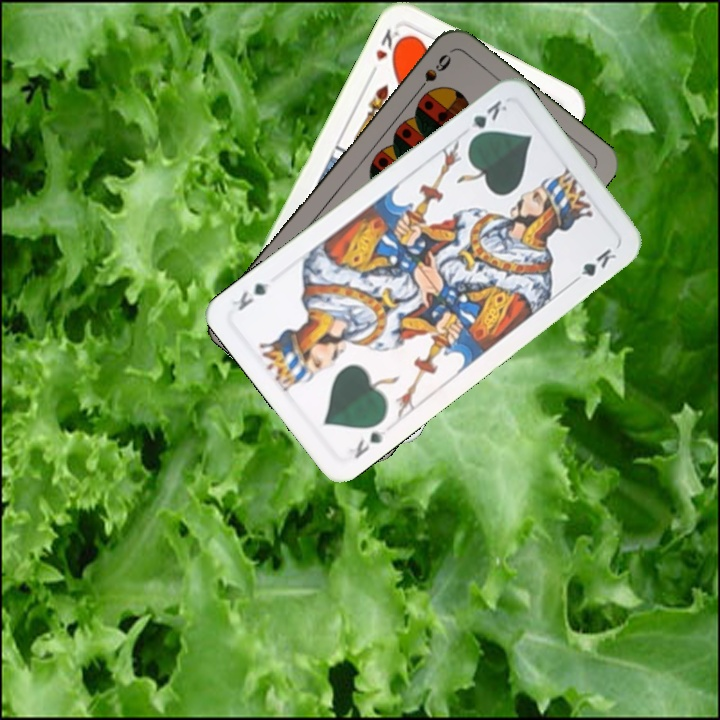GK: (465, 95, 510, 144), (350, 427, 387, 461)
HK: (365, 24, 408, 78)
S9: (410, 49, 455, 98)
